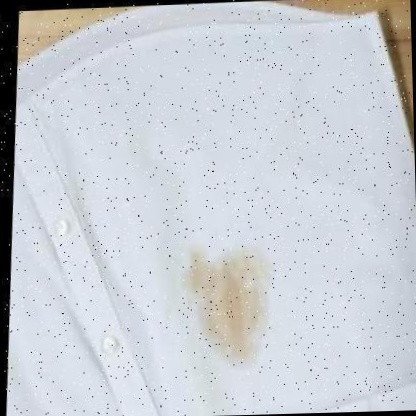coffee: (205, 260, 264, 354)
